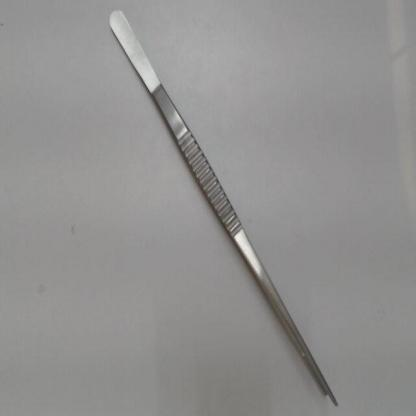DeBakey Dissector: (67, 4, 363, 414)
